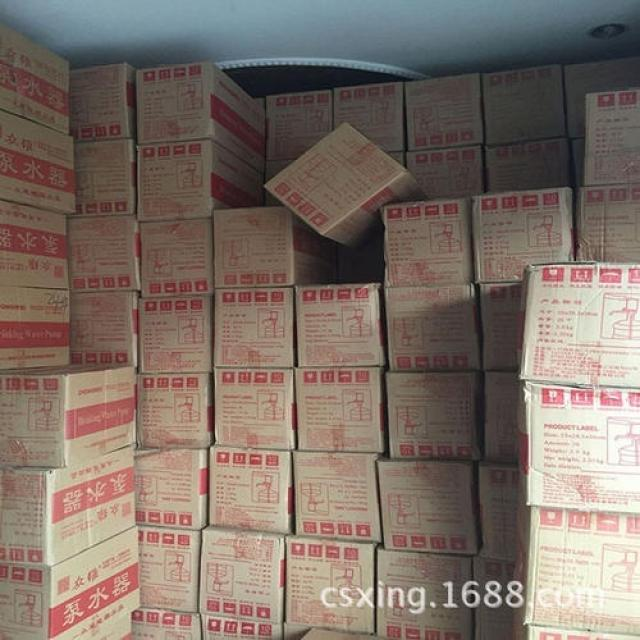Carton: (137, 123, 407, 370), (0, 444, 200, 567), (0, 365, 205, 462), (384, 282, 480, 458), (0, 527, 138, 639), (522, 512, 634, 637), (530, 384, 637, 507), (138, 61, 265, 164), (526, 268, 637, 379), (378, 461, 476, 556), (471, 191, 567, 274), (293, 452, 379, 543), (197, 536, 282, 628), (383, 200, 467, 282), (296, 370, 381, 451), (294, 287, 381, 364), (209, 448, 288, 531), (210, 374, 288, 447), (72, 289, 133, 358)
